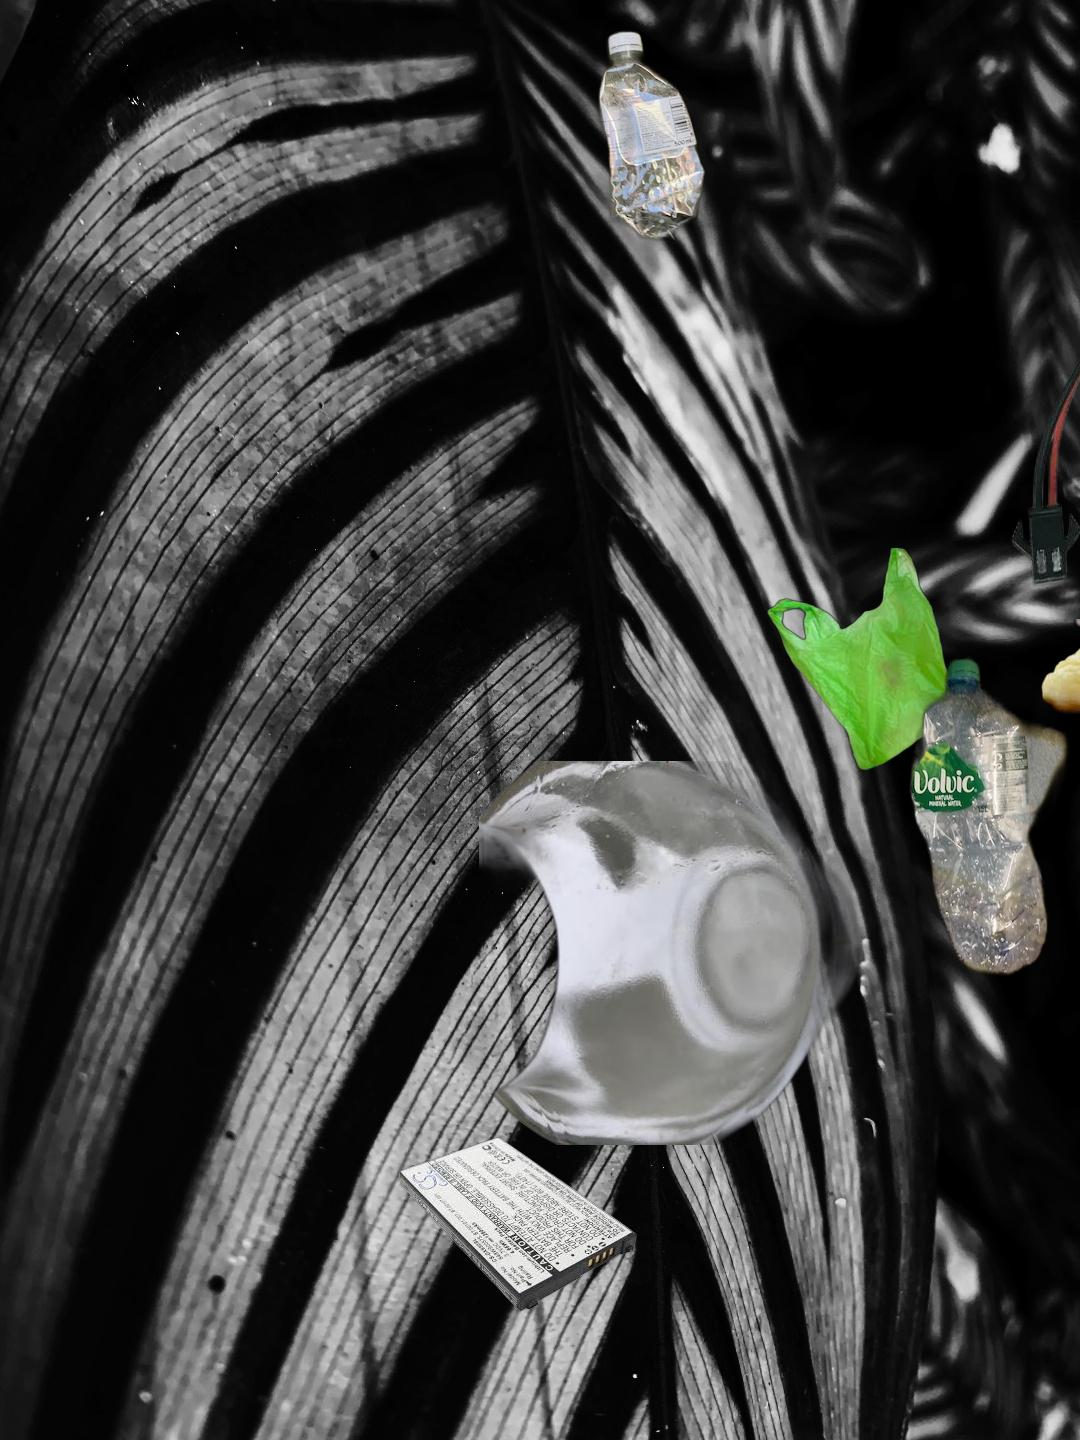battery: (396, 1135, 639, 1314), (1007, 252, 1080, 593)
biological: (1038, 619, 1080, 761)
glass: (479, 761, 868, 1145)
penholder: (710, 487, 1080, 1440)
plastic-bag: (764, 546, 998, 773)
plastic-bottles: (899, 651, 1075, 982), (593, 25, 709, 245)
